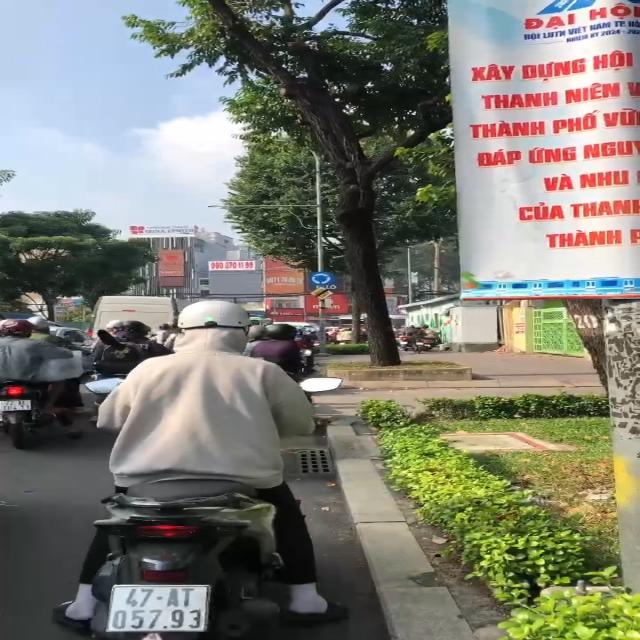Bien bao noi giao nhau chay theo vong xuyen: (304, 270, 338, 286)
